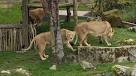lion: (29, 27, 77, 60), (75, 18, 113, 49)
